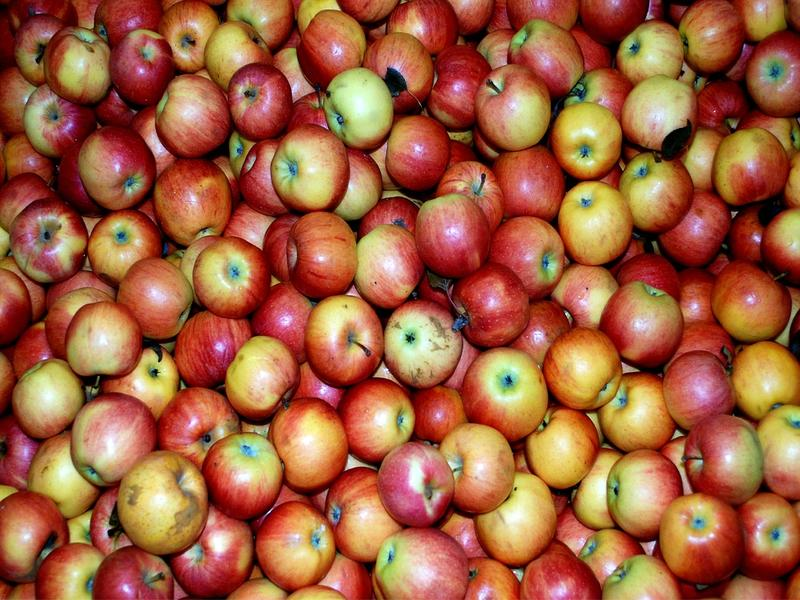apple: (468, 56, 553, 149), (270, 124, 353, 213), (417, 194, 501, 276), (543, 101, 628, 181), (322, 68, 398, 146), (227, 61, 298, 135), (383, 112, 451, 185)
